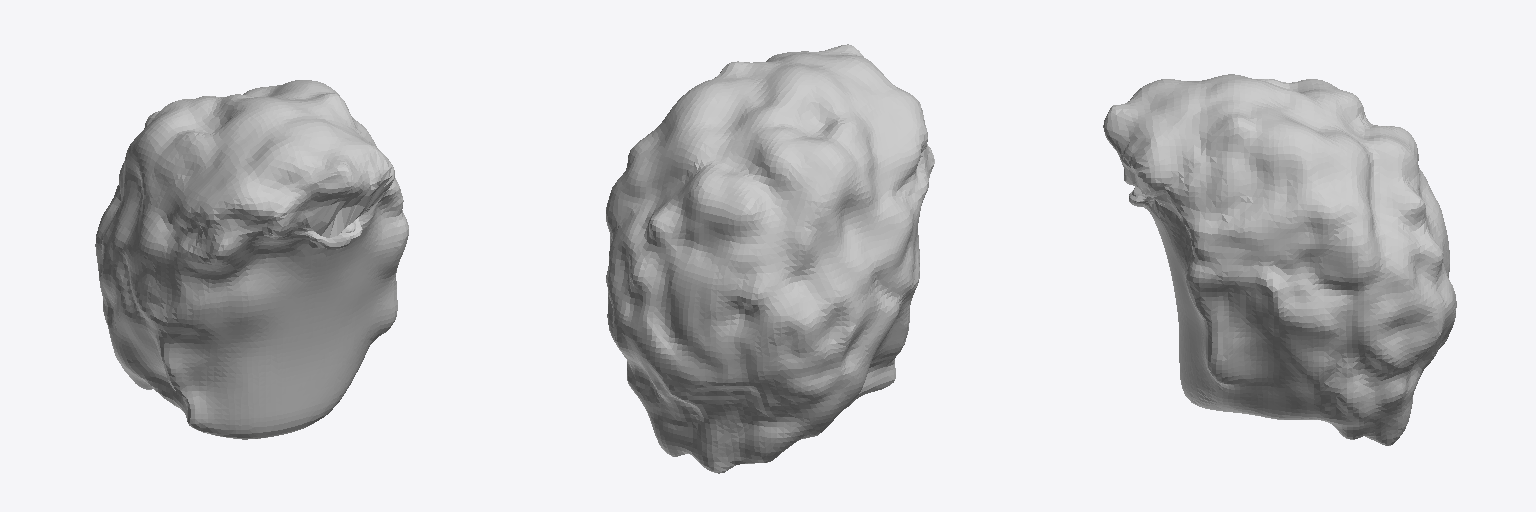
The model's file is Hair.OBJ.
3 renders of one model, left to right at view 1: azimuth 30°, elevation 25°; view 2: azimuth 150°, elevation 25°; view 3: azimuth 270°, elevation 25°, orthographic.
Parts seen in each view (by area): view 1: Group21983; view 2: Group21983; view 3: Group21983.
Part boxes in pixels (left/top/right/bottom): Group21983: left=95, top=80, right=408, bottom=439; Group21983: left=606, top=44, right=934, bottom=473; Group21983: left=1103, top=74, right=1456, bottom=445.
Bounding box in the file's own units: 0.8256 × 1.04 × 0.9764.